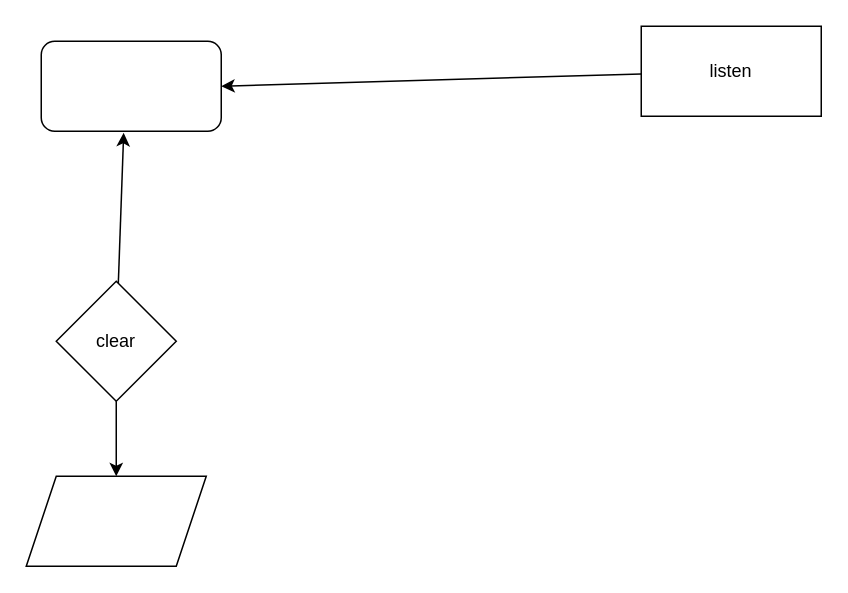
Some shapes in this 848 by 593 pixel diagram are drawn without their labels. Here are the shapes that lost their labels. From the top down, the centre of each, then its label:
point (130, 85): input.txt
point (115, 520): song name
